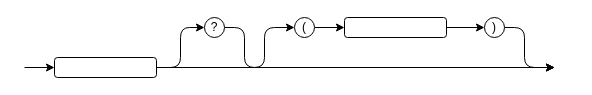
This 592x95 diagram has some shape labels left out. Each missing label, with the centre of its shape:
attribute name: [105,67]
expression: [395,27]
